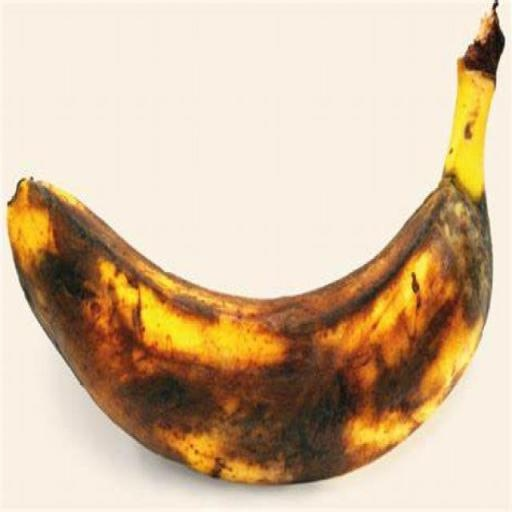fruit: (8, 10, 503, 483)
